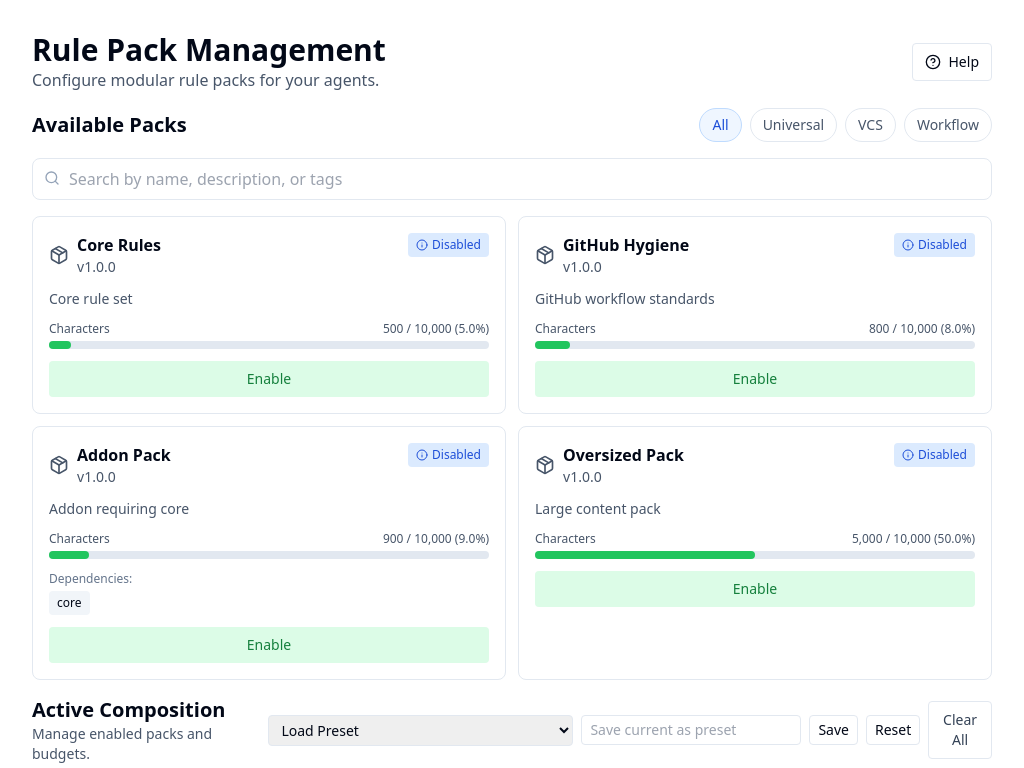
Test: RulePacksView › loads presets and updates the enabled pack list
Select "GitHub Standard" in the dropdown at [421, 730], box [268,714,573,746]
(page scrolled)
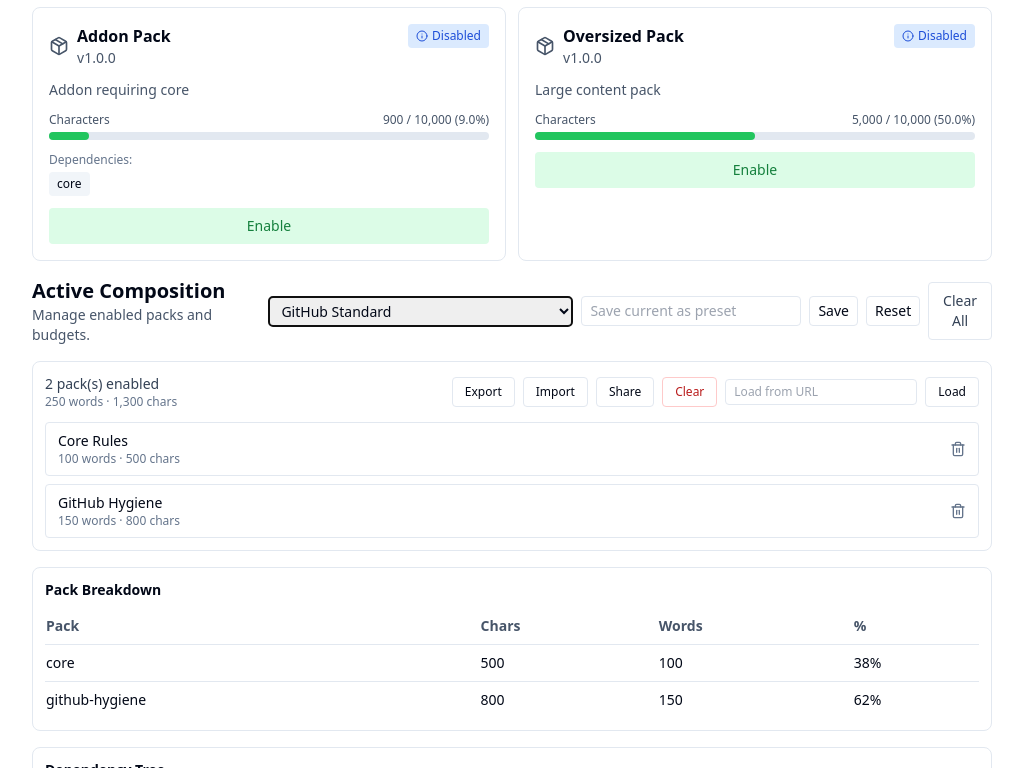
Check: the text "2 pack(s) enabled" is shown, box [45,374,177,394]
